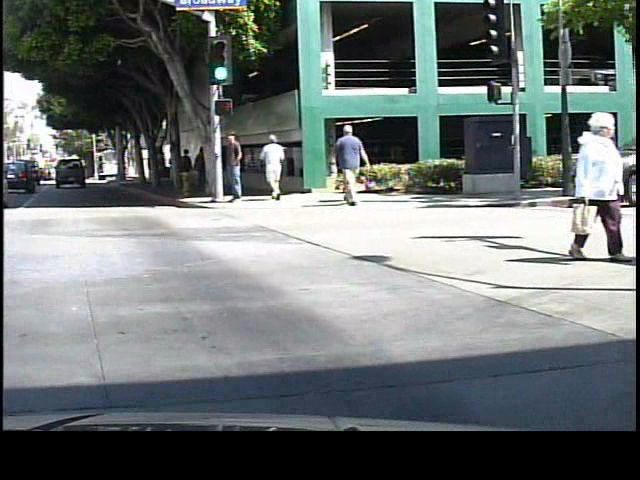person: (555, 105, 631, 267), (331, 120, 370, 204), (222, 128, 251, 210), (257, 128, 286, 201), (186, 140, 206, 193), (177, 146, 193, 192)
